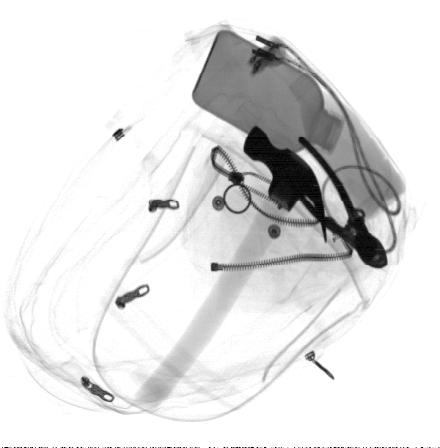Hammer: (134, 124, 326, 417)
Pliers: (279, 137, 388, 270)
